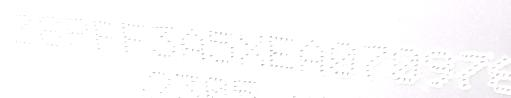letter: (357, 37, 391, 83), (421, 44, 454, 88), (206, 27, 238, 71), (236, 29, 267, 73), (265, 31, 297, 73), (326, 37, 358, 79), (295, 35, 327, 76), (391, 44, 422, 86), (457, 47, 487, 90), (6, 10, 39, 49), (178, 22, 208, 64), (148, 22, 179, 62), (35, 12, 65, 53), (63, 13, 92, 54), (90, 16, 119, 57), (118, 17, 147, 57), (487, 52, 510, 95)
